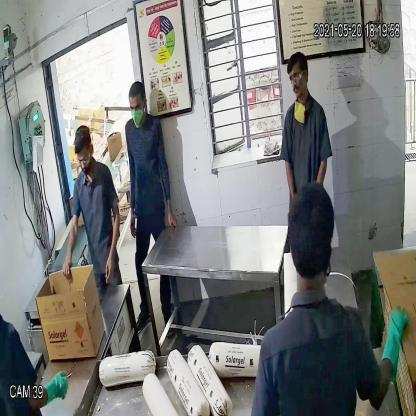goggles: (285, 72, 306, 87), (74, 153, 92, 167)
no_goggles: (128, 100, 144, 114)
